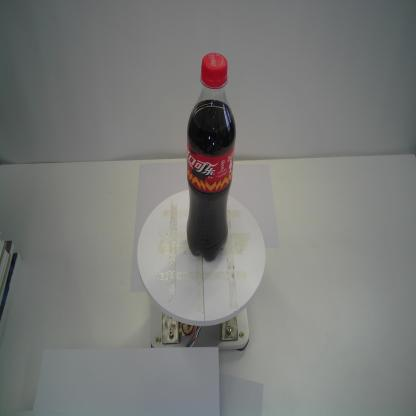Drink: (185, 50, 238, 265)
